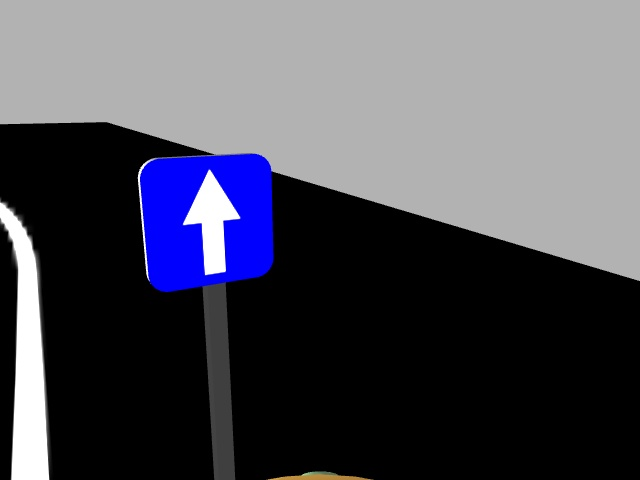OneWay: (133, 155, 273, 282)
